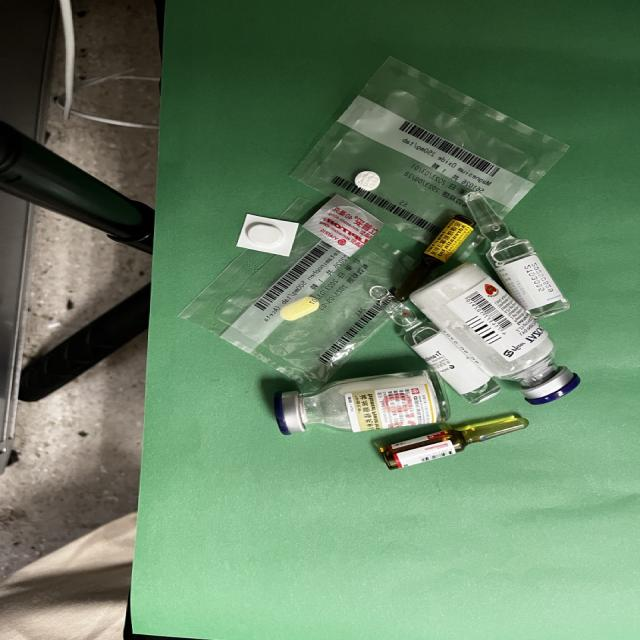Ampoules: (369, 285, 501, 404), (467, 191, 571, 319), (379, 417, 529, 470), (395, 214, 477, 302)
Vials: (409, 262, 581, 404), (274, 370, 451, 435)
